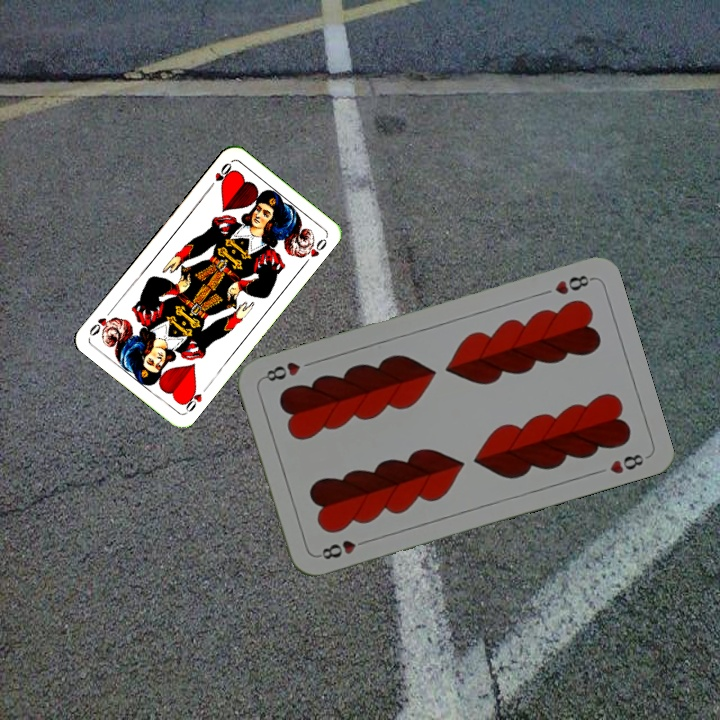H8: (314, 535, 371, 562), (550, 271, 595, 298)
HO: (178, 381, 211, 416), (204, 159, 235, 192)
